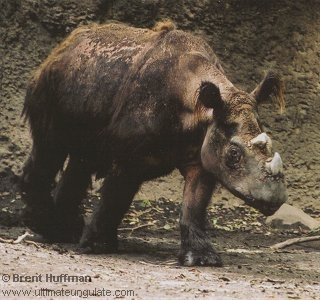rhino: (22, 16, 289, 266)
